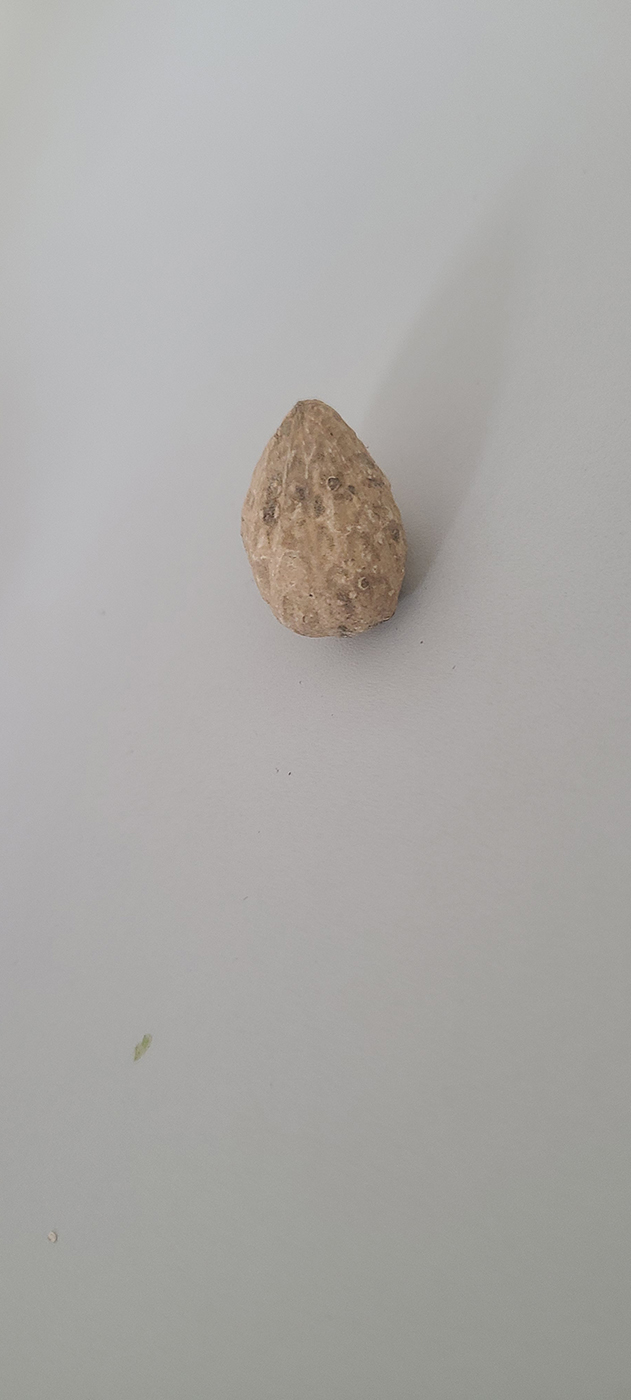h: (238, 394, 410, 644)
